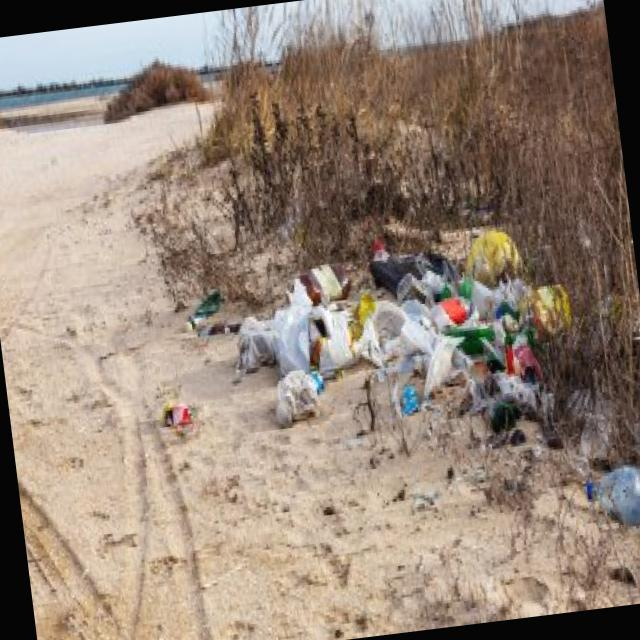garbage: (222, 152, 612, 536)
